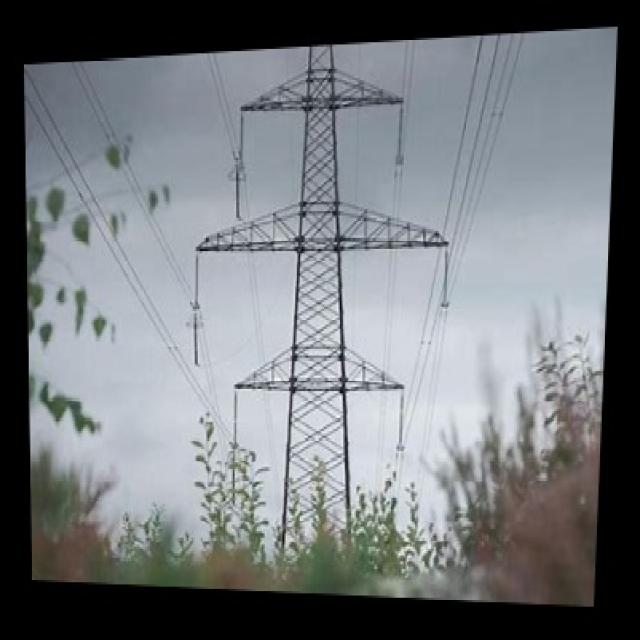utility poles: (184, 336, 443, 596)
